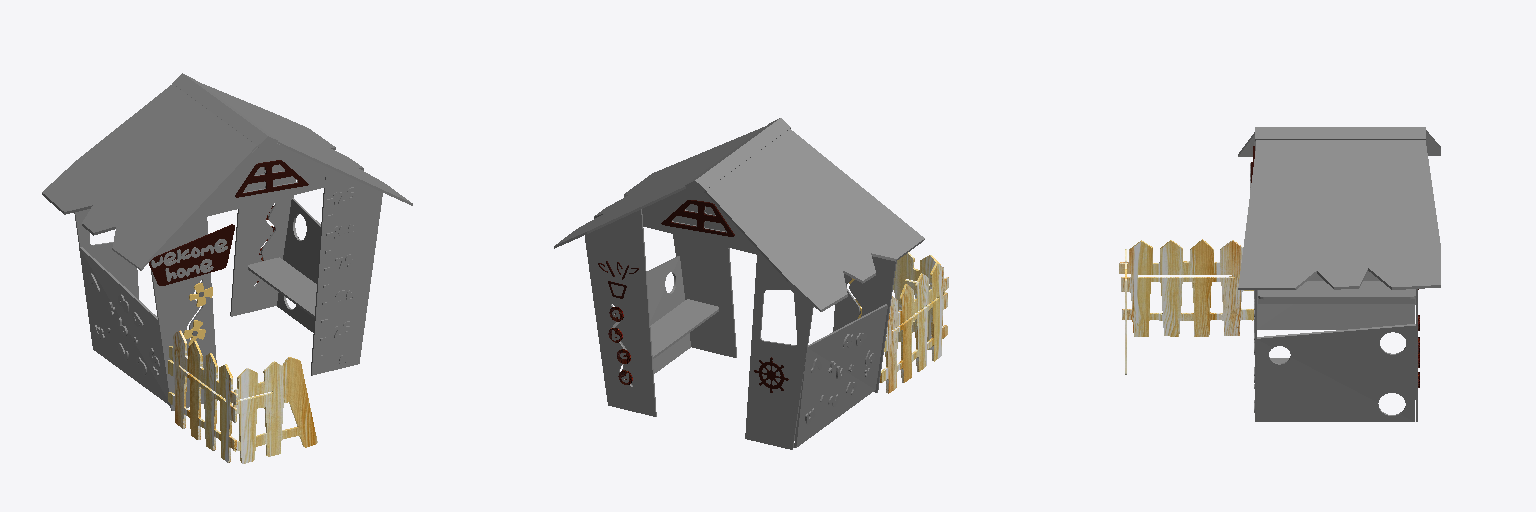
3 views of the same model, side by side, from view 1: azimuth 30°, elevation 25°; view 2: azimuth 150°, elevation 25°; view 3: azimuth 270°, elevation 25° (orthographic).
Visible parts, largest first — view 1: Line046, Line009, Line029, Line005, Line001, Line040, Line045, Line047, Line015, Line039, Rectangle012, Line053 (+4 smaller); view 2: Line046, Line040, Line016, Line029, Line009, Line001, Line047, Line045, Line049, Line039, Rectangle012, Line044 (+2 smaller); view 3: Line047, Line039, Line001, Line029, Line044, Rectangle015, Rectangle016.
Boxes of the visible parts, <box> form: Line046: <box>42,84,257,270</box>; Line009: <box>311,167,382,375</box>; Line029: <box>79,247,169,405</box>; Line005: <box>233,357,317,463</box>; Line001: <box>168,330,237,462</box>; Line040: <box>230,164,295,316</box>; Line045: <box>151,203,217,410</box>; Line047: <box>197,81,412,205</box>; Line015: <box>206,140,325,216</box>; Line039: <box>277,198,320,332</box>; Rectangle012: <box>248,257,316,317</box>; Line053: <box>149,224,234,285</box>; Line046: <box>705,129,924,311</box>; Line040: <box>585,209,656,416</box>; Line016: <box>745,249,813,449</box>; Line029: <box>794,304,887,447</box>; Line009: <box>673,204,736,357</box>; Line001: <box>880,263,948,393</box>; Line047: <box>554,127,763,248</box>; Line045: <box>833,256,896,392</box>; Line049: <box>642,185,756,254</box>; Line039: <box>593,256,690,385</box>; Rectangle012: <box>623,299,718,358</box>; Line044: <box>685,118,790,192</box>; Line047: <box>1238,140,1440,289</box>; Line039: <box>1257,324,1417,421</box>; Line001: <box>1119,239,1253,336</box>; Line029: <box>1257,271,1415,329</box>; Line044: <box>1255,127,1425,140</box>; Rectangle015: <box>1258,281,1415,299</box>; Rectangle016: <box>1258,298,1414,303</box>.
Bounding box in the file's own units: 2386 × 2164 × 2442.
Materials: 5 (2 with a texture image).